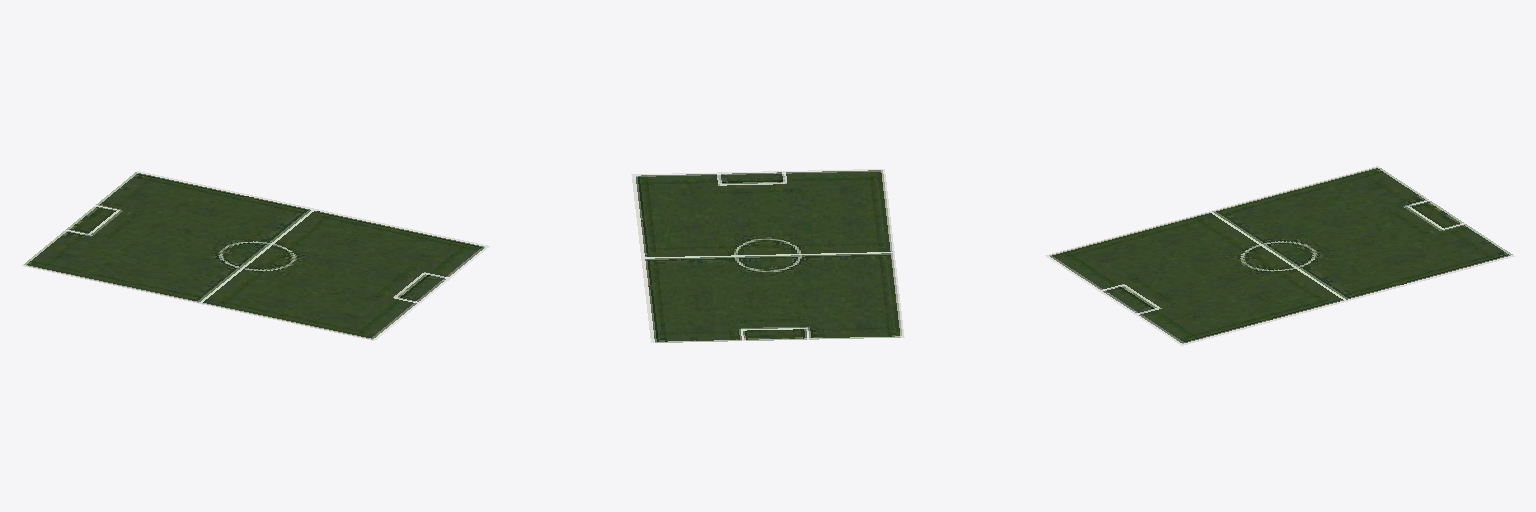
3 renders of one model, left to right at view 1: azimuth 30°, elevation 25°; view 2: azimuth 150°, elevation 25°; view 3: azimuth 270°, elevation 25°, orthographic.
Parts seen in each view (by area): view 1: VMtl2201; view 2: VMtl2201; view 3: VMtl2201.
Boxes of the visible parts, box(x1,y1,x2,y2) form: VMtl2201: box(22, 171, 489, 340); VMtl2201: box(631, 169, 904, 342); VMtl2201: box(1045, 166, 1514, 345).
Bounding box in the file's own units: 164 × 0.684 × 181.
Materials: 1 (1 with a texture image).